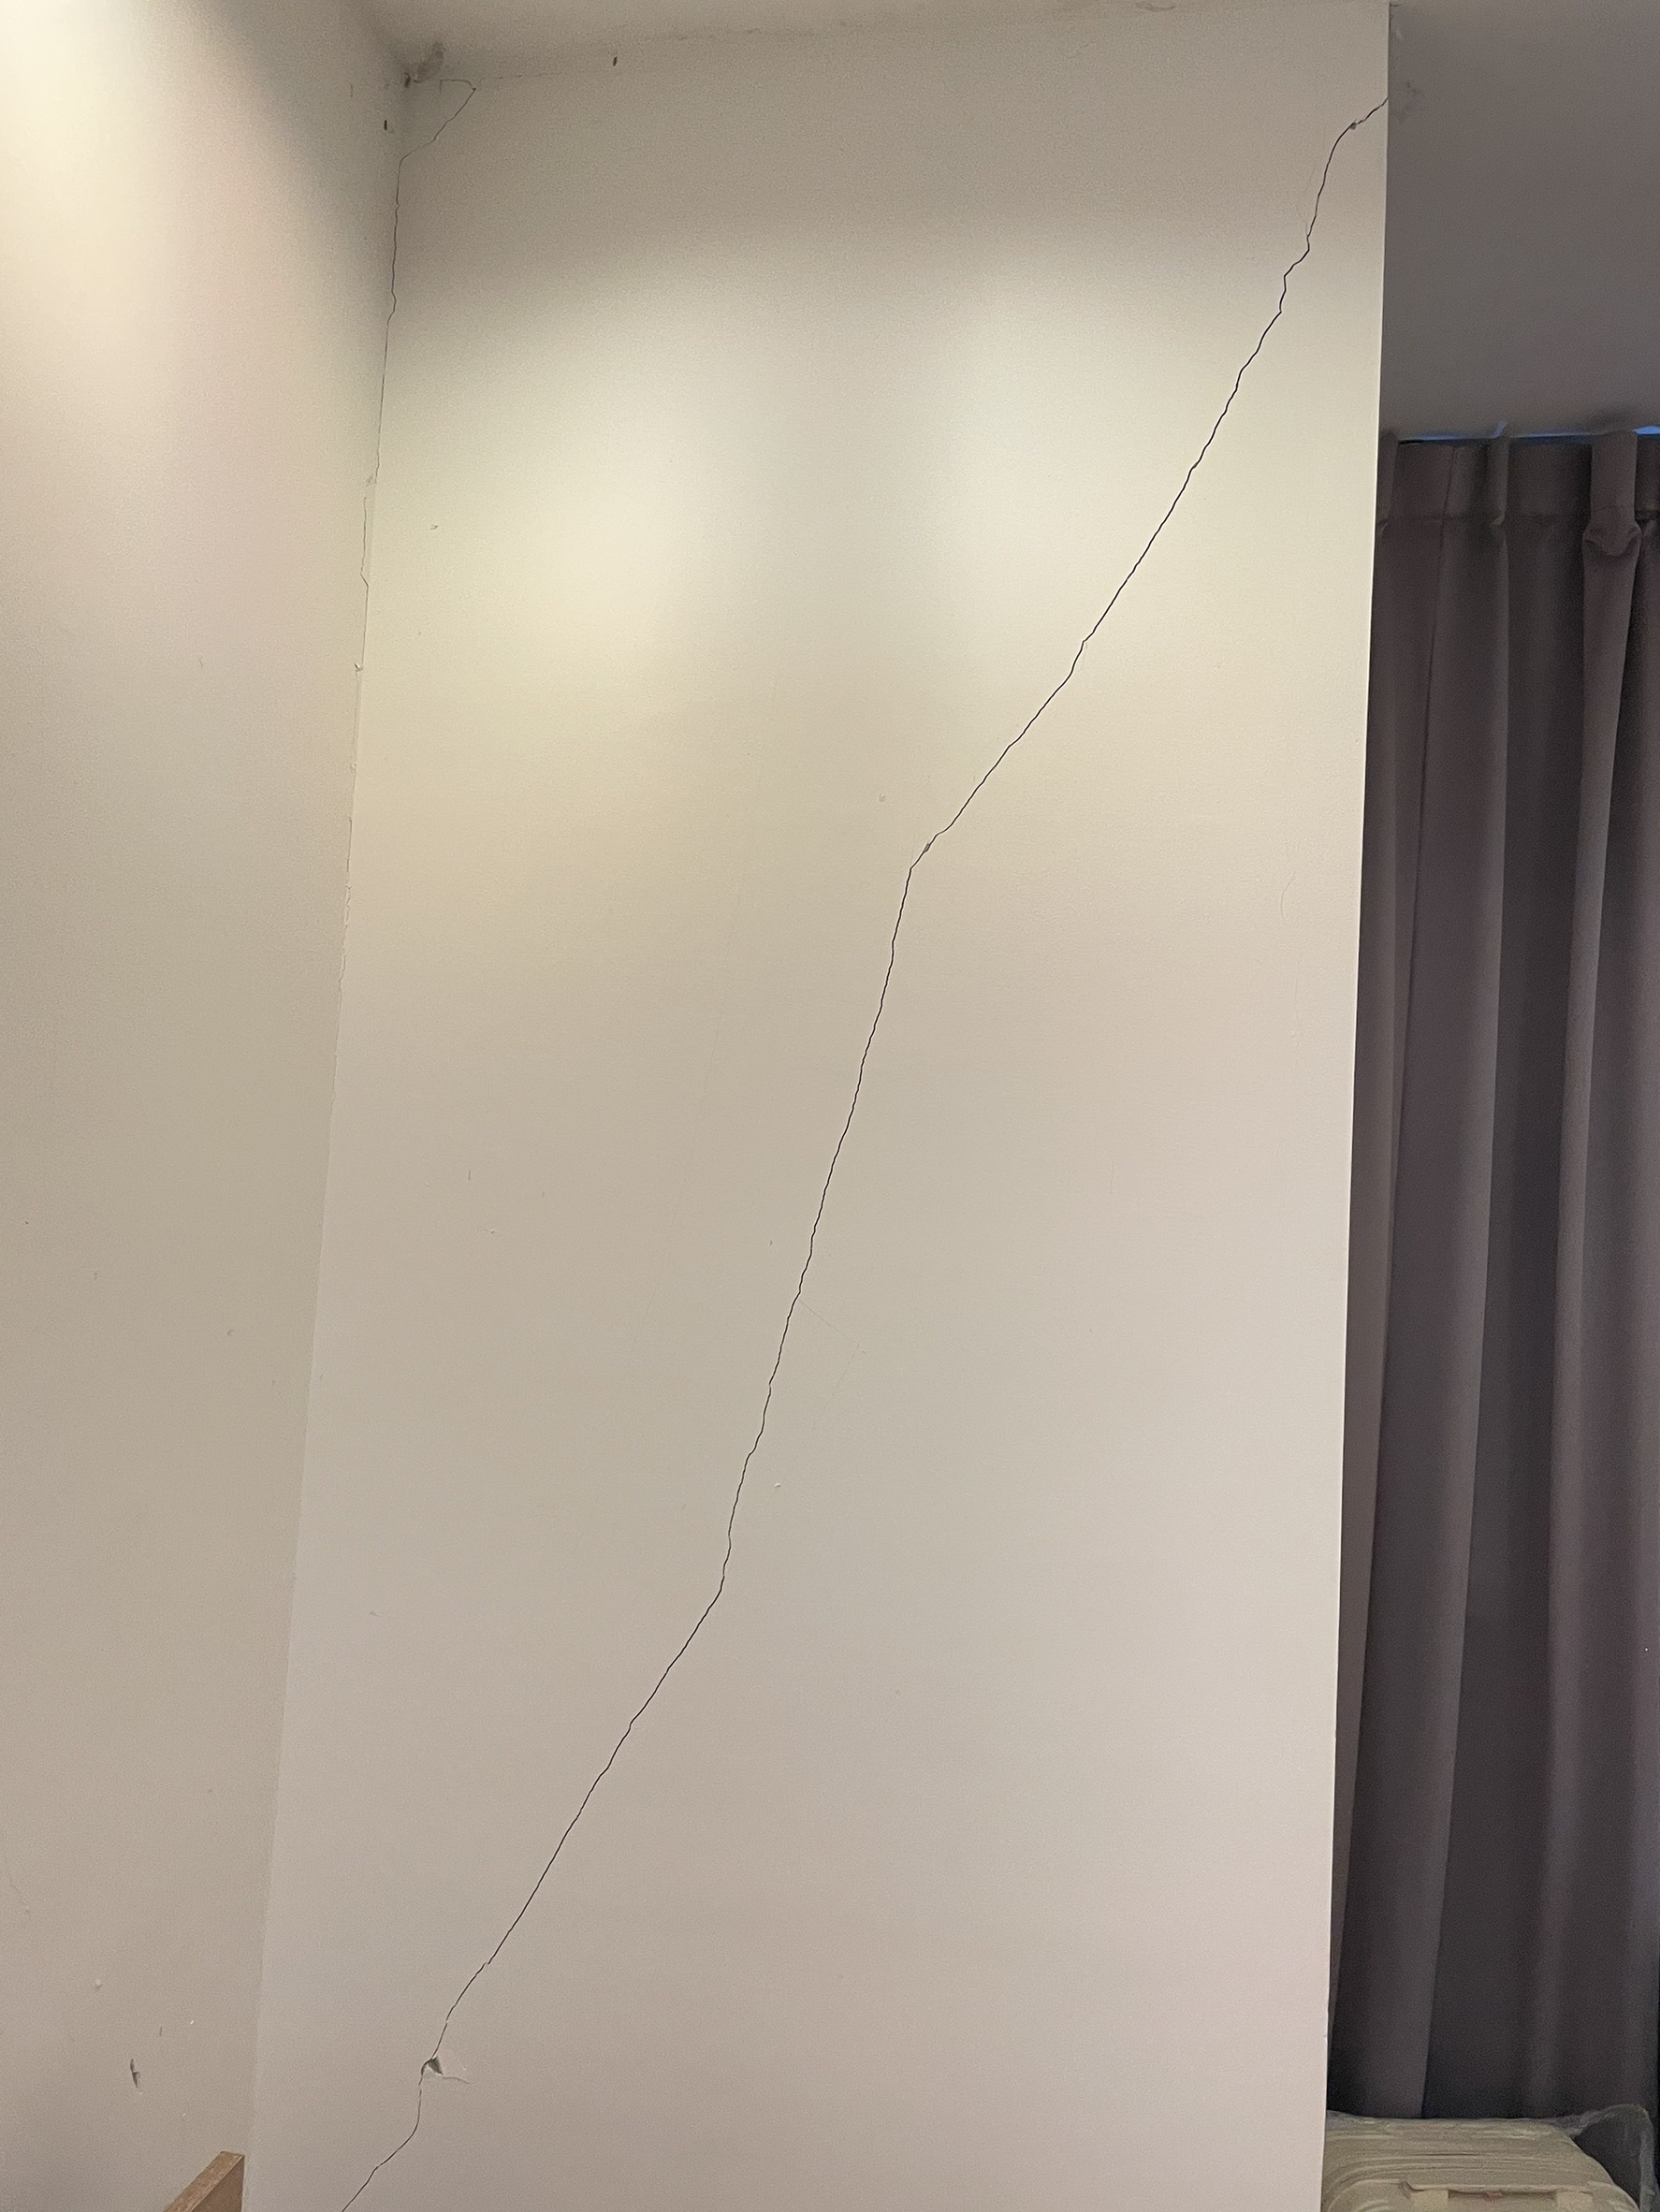Low: (328, 52, 1404, 2202)
